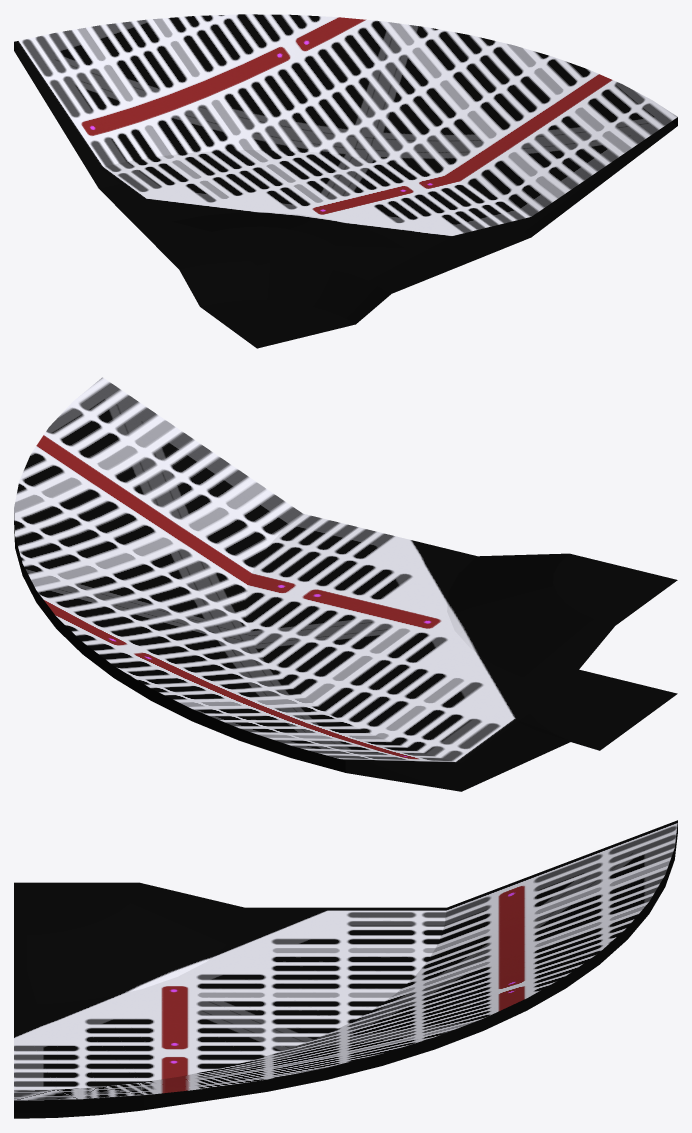
The model's file is Radar_Part_01.FBX.
The picture shows the model from 3 angles, top to bottom: view 1: azimuth 30°, elevation 25°; view 2: azimuth 150°, elevation 25°; view 3: azimuth 270°, elevation 25°; orthographic projection. The views are drawn at different scales.
Visible parts, largest first — view 1: Radar_Part_01; view 2: Radar_Part_01; view 3: Radar_Part_01.
Boxes of the visible parts, x1=… form: Radar_Part_01: x1=14, y1=14, x2=677, y2=348; Radar_Part_01: x1=14, y1=377, x2=677, y2=791; Radar_Part_01: x1=14, y1=820, x2=677, y2=1118.
Size of the model in its own units: 6 by 1.76 by 6.
